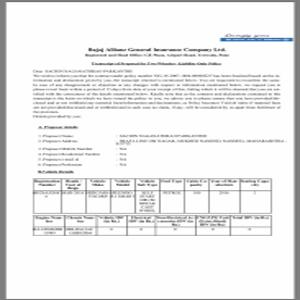table: (32, 177, 272, 213), (33, 215, 272, 237)
text: (32, 123, 290, 174), (31, 68, 284, 119), (81, 44, 232, 58), (88, 60, 226, 66)
